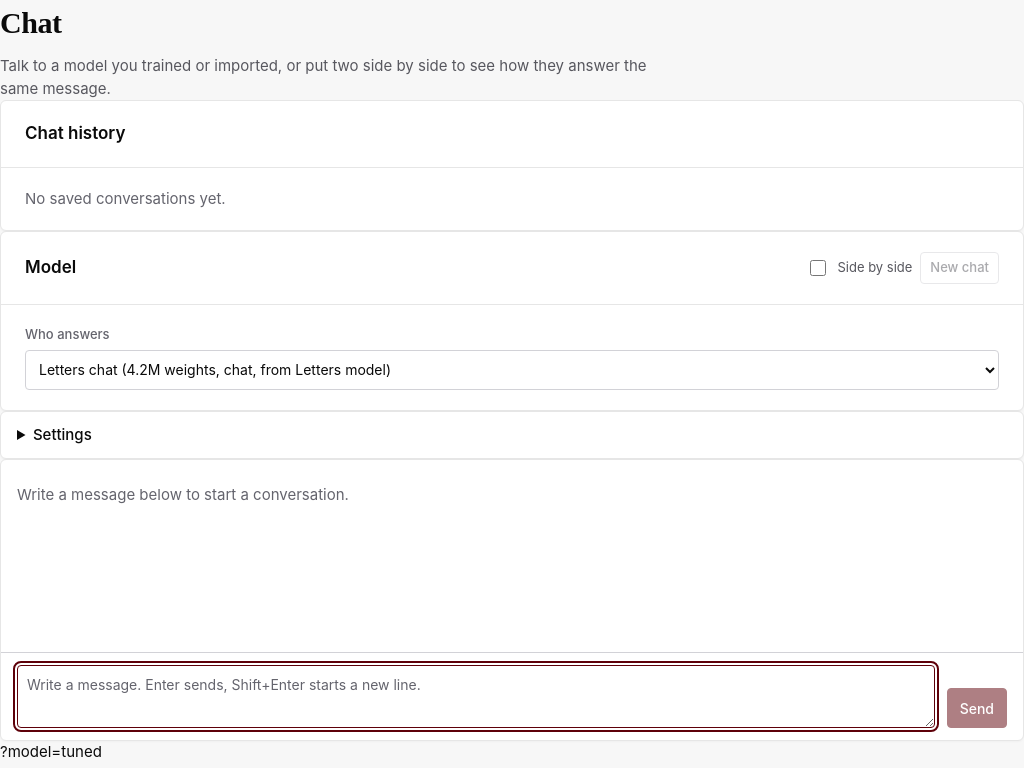
Test: starts with a chat model and streams its answer in
expect the dropdown labelled "Who answers" shows "Letters chat (4.2M weights, chat, from Letters model)": met, box [25,350,999,390]
expect the text with test id "where" reads "?model=tuned": met, box [0,742,102,761]
Type "Hi" into the text box named "Your message" at (476, 696), box [17,665,935,728]
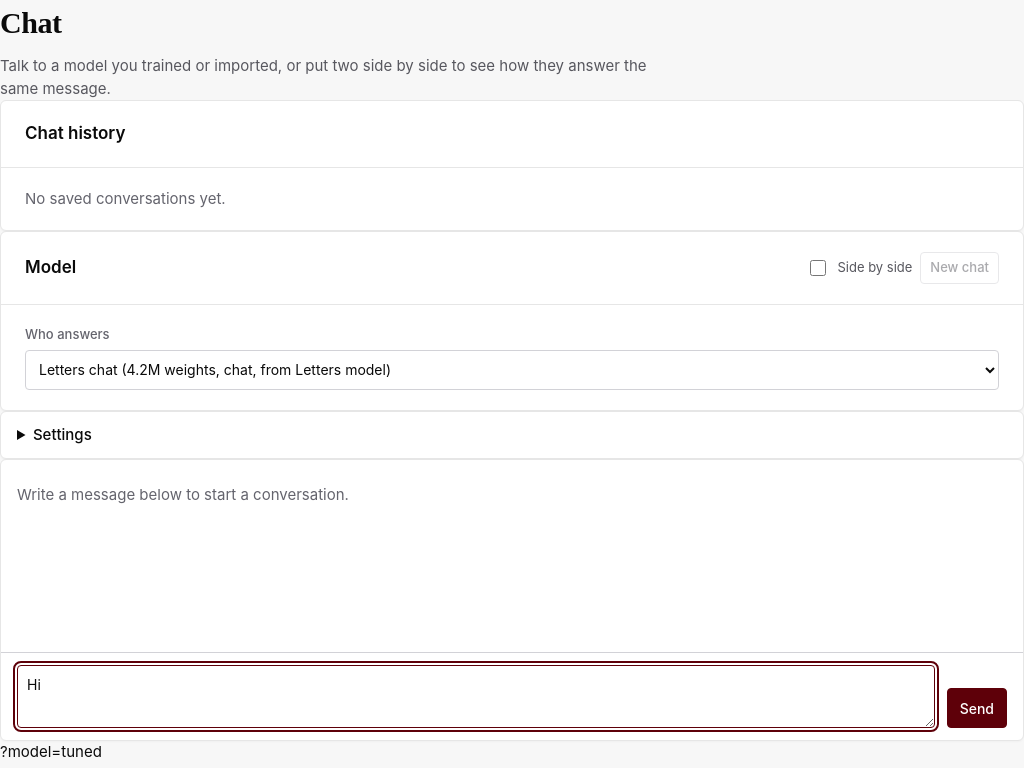
Press Enter in the text box named "Your message", box [17,665,935,728]
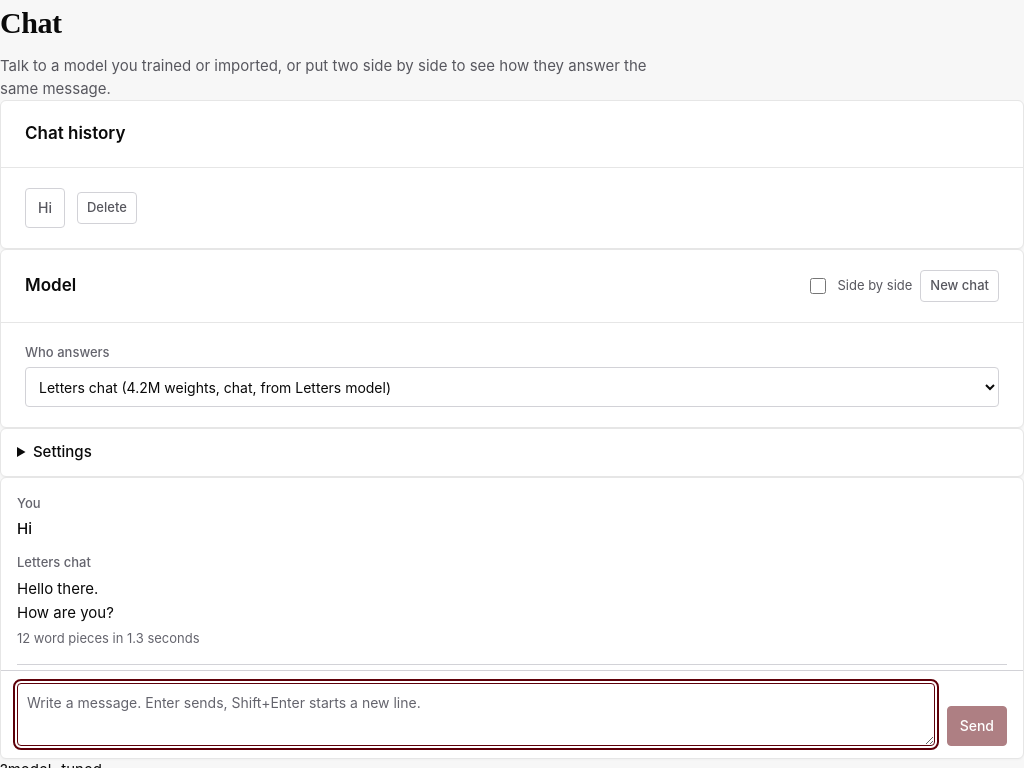
expect the text "12 word pieces in 1.3 seconds" is shown: met, box [17,630,200,646]
expect the text "Hi" is shown: met, box [17,519,32,538]
